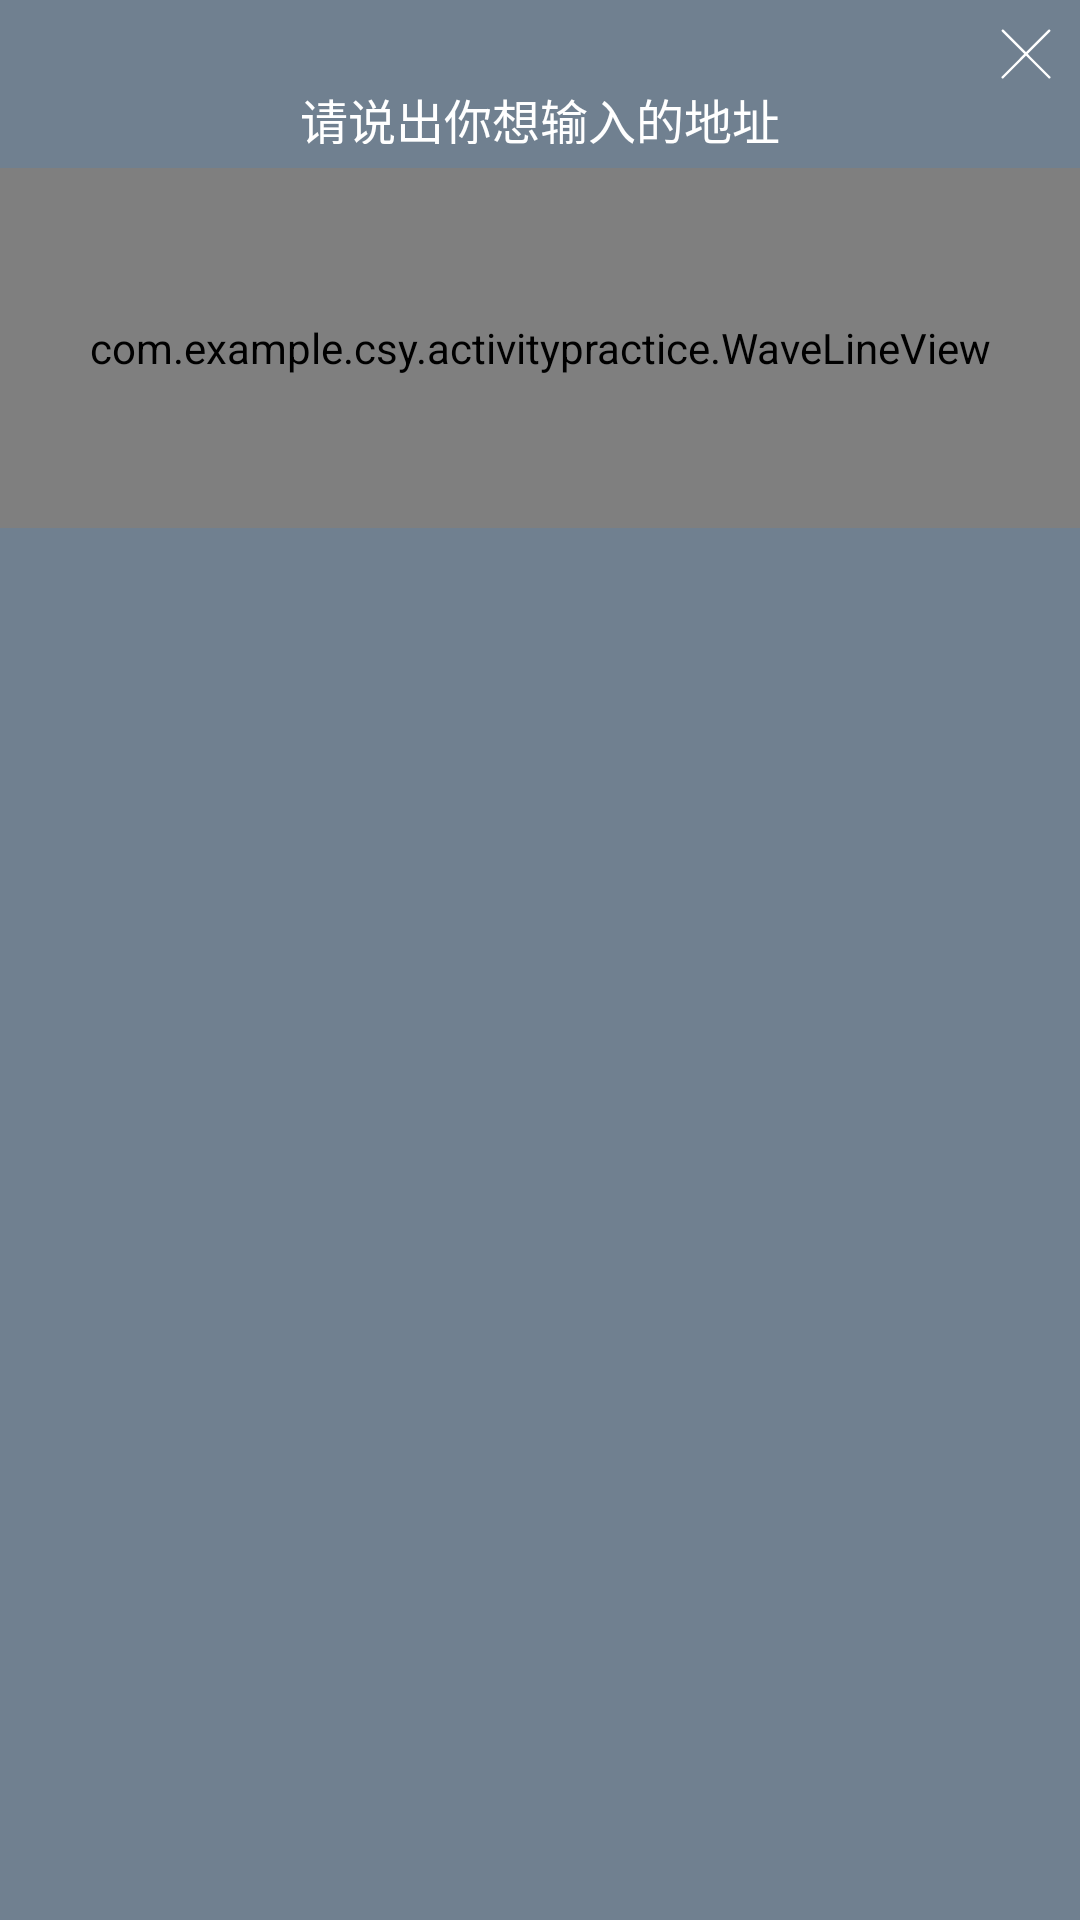

Icon bounding boxes for this 1080px×1920px phone screenshot, format (x1, y1, x2, y2):
这是关闭按钮: (1001, 29, 1051, 79)
